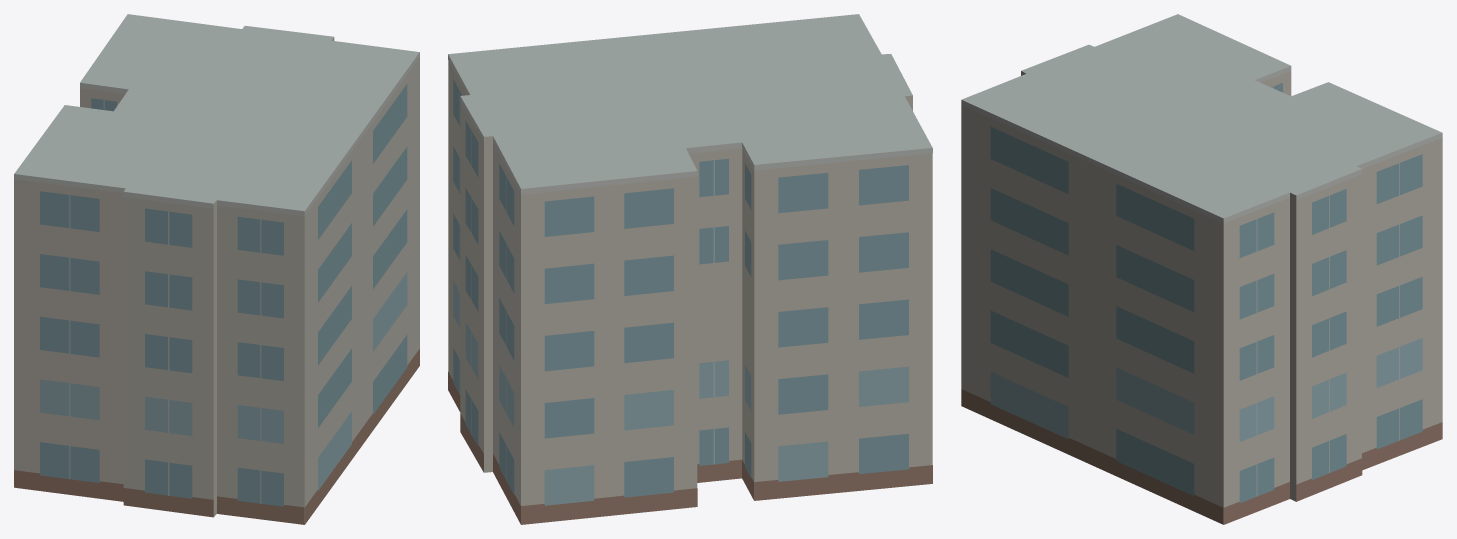
File: survey-upis-33042544.glb
3 views of the same model, side by side, from view 1: azimuth 30°, elevation 25°; view 2: azimuth 150°, elevation 25°; view 3: azimuth 270°, elevation 25° (orthographic). The views are drawn at different scales.
Visible parts, largest first — view 1: survey-upis-33042544.tmp; view 2: survey-upis-33042544.tmp; view 3: survey-upis-33042544.tmp.
Part boxes in pixels (x1,y1,x2,y2): survey-upis-33042544.tmp: [14, 14, 419, 524]; survey-upis-33042544.tmp: [448, 14, 932, 524]; survey-upis-33042544.tmp: [961, 14, 1442, 524].
Size of the model in its own units: 21.2 by 14.8 by 21.07.
